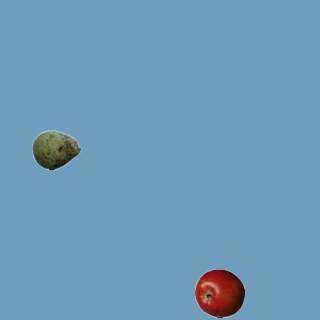Apple Braeburn: (194, 268, 244, 318)
Pear Stone: (31, 125, 81, 175)
